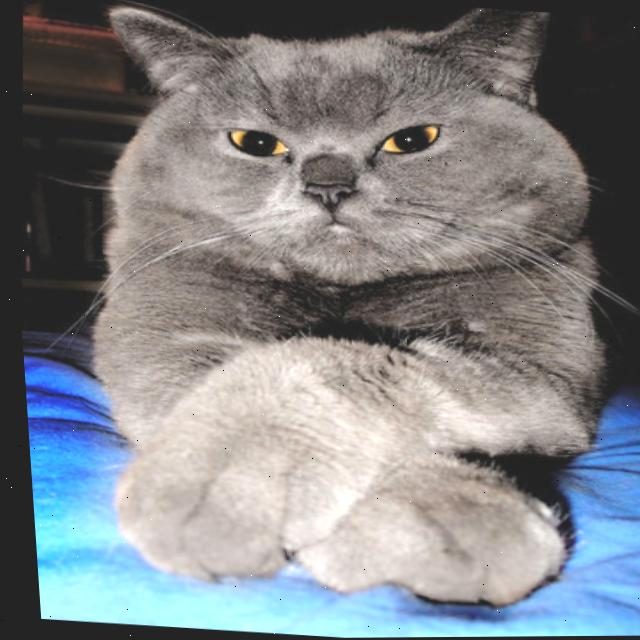British Shorthair: (39, 0, 634, 630)
